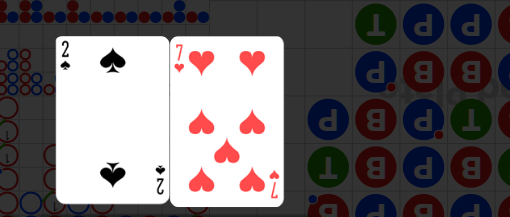2S: (60, 40, 73, 74)
7H: (174, 44, 187, 75)
